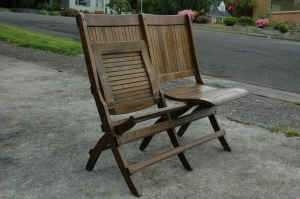obstacle: (80, 15, 246, 196)
